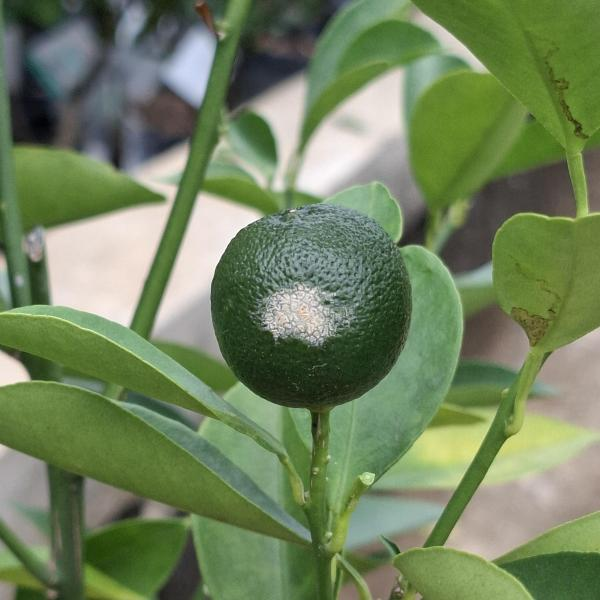Scab: (199, 185, 425, 412)
